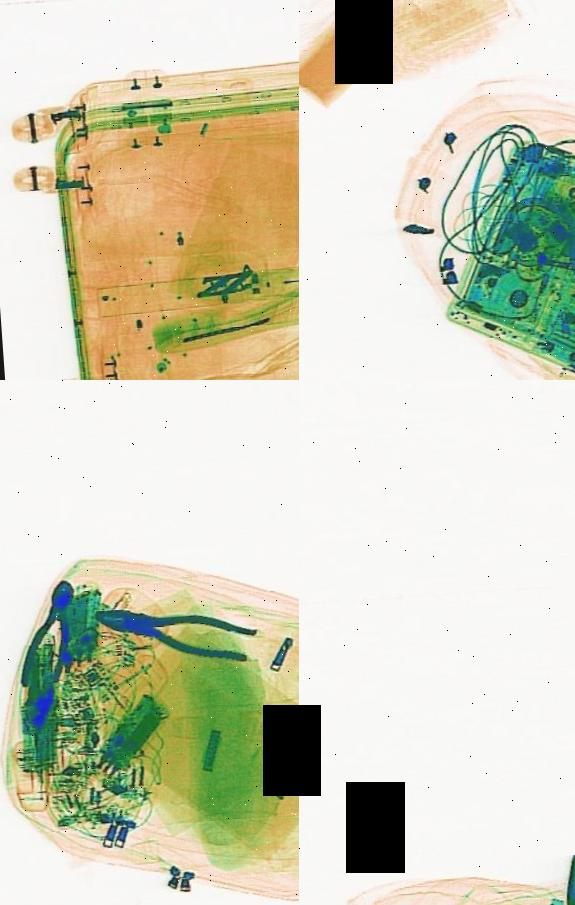Pliers: (91, 580, 262, 677), (12, 570, 93, 697)
